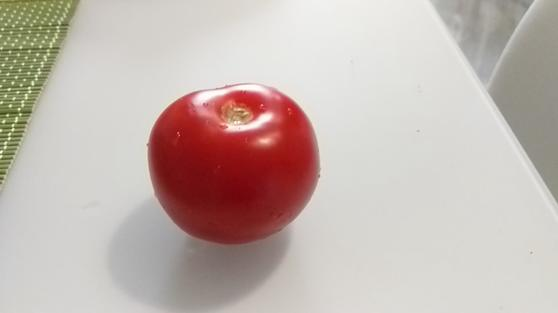tomato: (147, 82, 318, 249)
